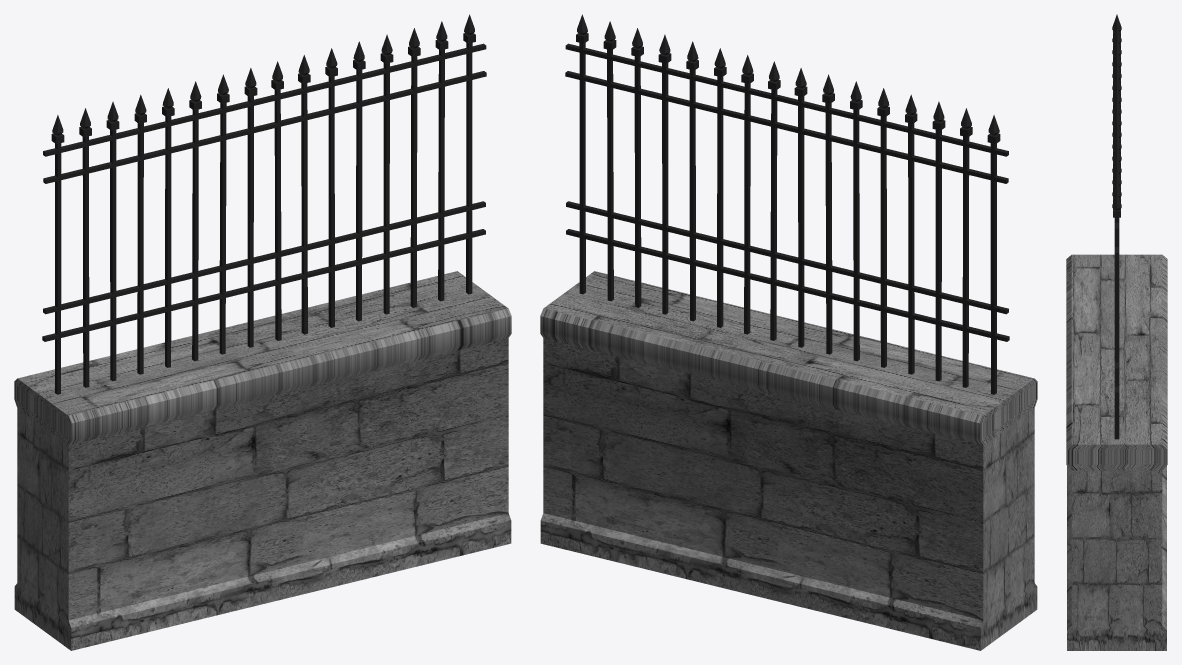
Rendered from wall fence.fbx.
3 views of the same model, side by side, from view 1: azimuth 30°, elevation 25°; view 2: azimuth 150°, elevation 25°; view 3: azimuth 270°, elevation 25° (orthographic). The views are drawn at different scales.
Parts seen in each view (by area): view 1: Cube, Cube_1; view 2: Cube, Cube_1; view 3: Cube, Cube_1.
Part boxes in pixels (x1,y1,x2,y2): Cube: [14, 271, 511, 650]; Cube_1: [42, 42, 486, 394]; Cube: [540, 271, 1037, 650]; Cube_1: [565, 42, 1009, 394]; Cube: [1066, 254, 1167, 650]; Cube_1: [1114, 217, 1119, 439].
Bounding box in the file's own units: 231 × 255 × 51.87.
2 materials, 1 textured.
